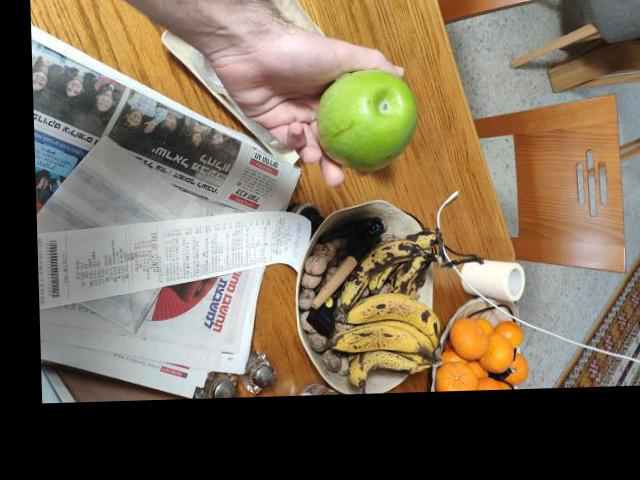apple: (313, 66, 425, 168)
